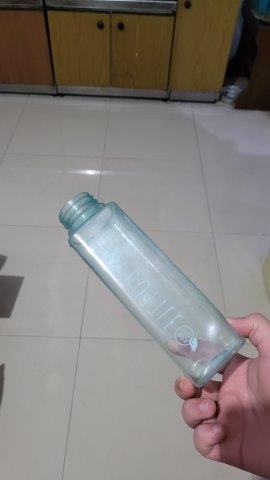botolplastik: (59, 189, 247, 386)
